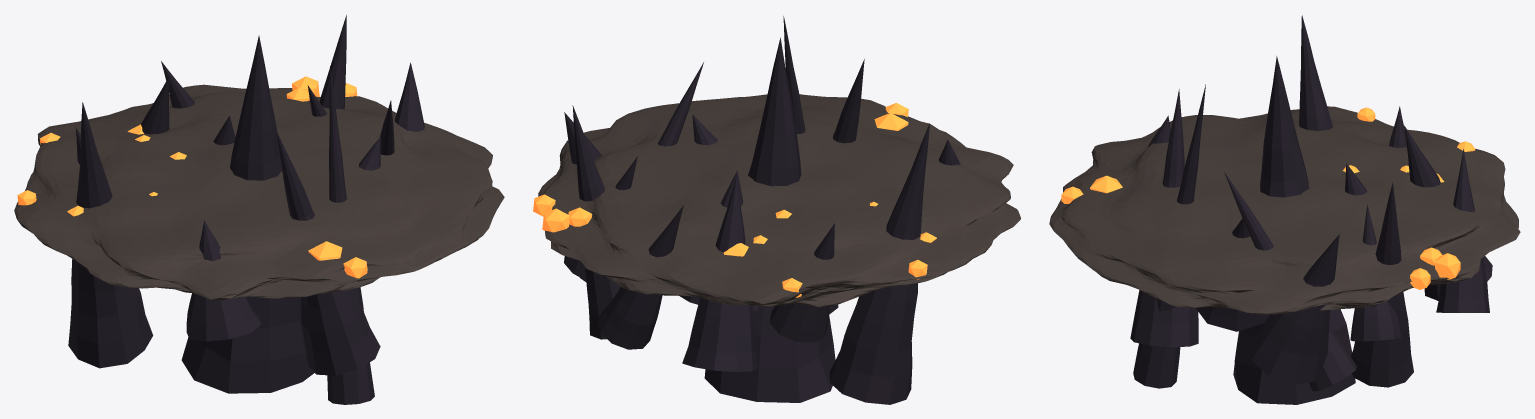
File: f_obsidian_spike.glb
3 renders of one model, left to right at view 1: azimuth 30°, elevation 25°; view 2: azimuth 150°, elevation 25°; view 3: azimuth 270°, elevation 25°, orthographic. The views are drawn at different scales.
Parts seen in each view (by area): view 1: TV_ObsidianSpike; view 2: TV_ObsidianSpike; view 3: TV_ObsidianSpike.
Part boxes in pixels (<box>): TV_ObsidianSpike: <box>14,15,504,404</box>; TV_ObsidianSpike: <box>533,16,1020,404</box>; TV_ObsidianSpike: <box>1049,15,1520,404</box>.
Bounding box in the file's own units: 4.03 × 3.02 × 3.98.
